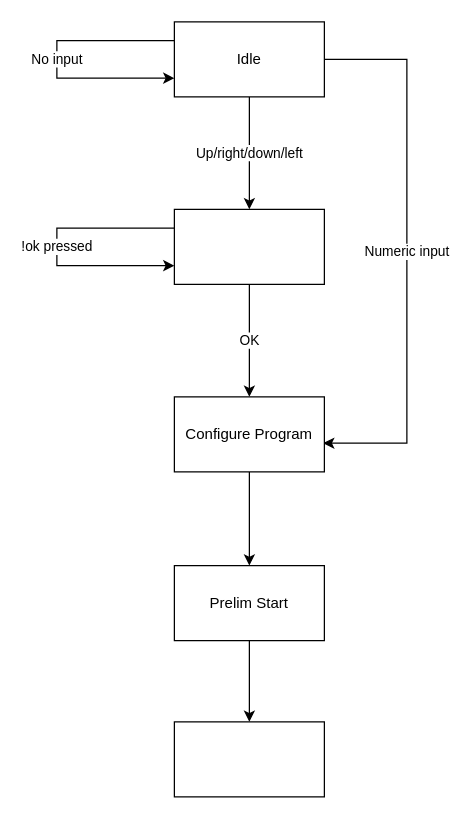
This 471x819 diagram has some shape labels left out. The shapes that lost their labels are listed below. From the top down, each one's box as (x1, y1, x2, y2) in pixels, then its label:
(173, 208, 324, 284): Navigate Menu
(173, 721, 324, 797): Running
